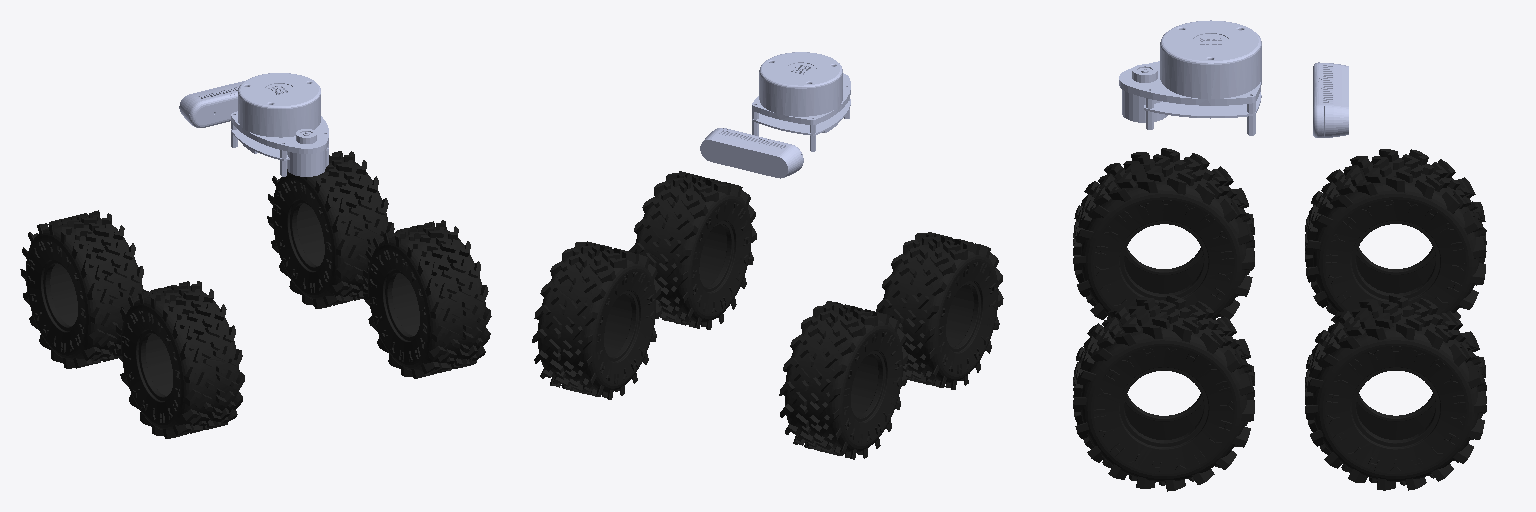
The robot description file, URDF, robot "solidword_URDF":
<?xml version="1.0" encoding="utf-8"?>
<!-- This URDF was automatically created by SolidWorks to URDF Exporter! Originally created by [author] ([email redacted]) 
     Commit Version: 1.5.1-0-g916b5db  Build Version: 1.5.7152.31018
     For more information, please see http://wiki.ros.org/sw_urdf_exporter -->
<robot
  name="solidword_URDF">
  <link
    name="base_link">
    <inertial>
      <origin
        xyz="0.00024063952234829 -0.00103307756433857 -0.00578527197752549"
        rpy="0 0 0" />
      <mass
        value="0.744239560036351" />
      <inertia
        ixx="0.00204640418006704"
        ixy="-4.63019082734219E-08"
        ixz="3.971079145753E-11"
        iyy="0.000945587884509177"
        iyz="5.58860428763674E-06"
        izz="0.00286862371111548" />
    </inertial>
    <visual>
      <origin
        xyz="0 0 0"
        rpy="0 0 0" />
      <geometry>
        <mesh
          filename="package://solidword_URDF/meshes/base_link.STL" />
      </geometry>
      <material
        name="">
        <color
          rgba="0.792156862745098 0.819607843137255 0.933333333333333 1" />
      </material>
    </visual>
    <collision>
      <origin
        xyz="0 0 0"
        rpy="0 0 0" />
      <geometry>
        <mesh
          filename="package://solidword_URDF/meshes/base_link.STL" />
      </geometry>
    </collision>
  </link>
  <link
    name="wheel_left_back_link">
    <inertial>
      <origin
        xyz="-5.91454890619403E-08 -4.15889707117145E-08 0.00430046442972337"
        rpy="0 0 0" />
      <mass
        value="0.0700997256787887" />
      <inertia
        ixx="0.000129991782935584"
        ixy="-7.03359504406401E-11"
        ixz="-7.31347838758624E-11"
        iyy="0.000129991710229871"
        iyz="-6.02868413374053E-11"
        izz="0.00021190371860368" />
    </inertial>
    <visual>
      <origin
        xyz="0 0 0"
        rpy="0 0 0" />
      <geometry>
        <mesh
          filename="package://solidword_URDF/meshes/wheel_left_back_link.STL" />
      </geometry>
      <material
        name="">
        <color
          rgba="0.164705882352941 0.164705882352941 0.164705882352941 1" />
      </material>
    </visual>
    <collision>
      <origin
        xyz="0 0 0"
        rpy="0 0 0" />
      <geometry>
        <mesh
          filename="package://solidword_URDF/meshes/wheel_left_back_link.STL" />
      </geometry>
    </collision>
  </link>
  <joint
    name="wheel_left_back_joint"
    type="continuous">
    <origin
      xyz="-0.11952 -0.079844 -0.034566"
      rpy="3.1416 -1.5708 0" />
    <parent
      link="base_link" />
    <child
      link="wheel_left_back_link" />
    <axis
      xyz="0 0 -1" />
    <limit
      effort="100"
      velocity="100" />
    <dynamics
      damping="0.1"
      friction="0.1" />
  </joint>
  <link
    name="wheel_right_back_link">
    <inertial>
      <origin
        xyz="-2.29356525993651E-08 -6.85695793478658E-08 0.00430046442972555"
        rpy="0 0 0" />
      <mass
        value="0.0700997256787938" />
      <inertia
        ixx="0.000129991824526835"
        ixy="1.39066116599433E-11"
        ixz="-2.31031120103638E-11"
        iyy="0.000129991668638631"
        iyz="-9.19208698297987E-11"
        izz="0.000211903718603691" />
    </inertial>
    <visual>
      <origin
        xyz="0 0 0"
        rpy="0 0 0" />
      <geometry>
        <mesh
          filename="package://solidword_URDF/meshes/wheel_right_back_link.STL" />
      </geometry>
      <material
        name="">
        <color
          rgba="0.164705882352941 0.164705882352941 0.164705882352941 1" />
      </material>
    </visual>
    <collision>
      <origin
        xyz="0 0 0"
        rpy="0 0 0" />
      <geometry>
        <mesh
          filename="package://solidword_URDF/meshes/wheel_right_back_link.STL" />
      </geometry>
    </collision>
  </link>
  <joint
    name="wheel_right_back_joint"
    type="continuous">
    <origin
      xyz="0.11952 -0.079847 -0.034572"
      rpy="0 1.5708 0" />
    <parent
      link="base_link" />
    <child
      link="wheel_right_back_link" />
    <axis
      xyz="0 0 -1" />
    <limit
      effort="100"
      velocity="100" />
    <dynamics
      damping="0.1"
      friction="0.1" />
  </joint>
  <link
    name="wheel_right_front_link">
    <inertial>
      <origin
        xyz="9.38301703001798E-09 -7.16923318488938E-08 0.00430046442972547"
        rpy="0 0 0" />
      <mass
        value="0.0700997256788076" />
      <inertia
        ixx="0.000129991783731368"
        ixy="6.99189367407342E-11"
        ixz="1.94509576281386E-11"
        iyy="0.000129991709434125"
        iyz="-9.27623864397286E-11"
        izz="0.000211903718603716" />
    </inertial>
    <visual>
      <origin
        xyz="0 0 0"
        rpy="0 0 0" />
      <geometry>
        <mesh
          filename="package://solidword_URDF/meshes/wheel_right_front_link.STL" />
      </geometry>
      <material
        name="">
        <color
          rgba="0.164705882352941 0.164705882352941 0.164705882352941 1" />
      </material>
    </visual>
    <collision>
      <origin
        xyz="0 0 0"
        rpy="0 0 0" />
      <geometry>
        <mesh
          filename="package://solidword_URDF/meshes/wheel_right_front_link.STL" />
      </geometry>
    </collision>
  </link>
  <joint
    name="wheel_right_front_joint"
    type="continuous">
    <origin
      xyz="0.11952 0.08009 -0.034456"
      rpy="0 1.5708 0" />
    <parent
      link="base_link" />
    <child
      link="wheel_right_front_link" />
    <axis
      xyz="0 0 -1" />
    <limit
      effort="100"
      velocity="100" />
    <dynamics
      damping="0.1"
      friction="0.1" />
  </joint>
  <link
    name="wheel_left_front_link">
    <inertial>
      <origin
        xyz="-7.21318487162392E-08 -4.98282659577853E-09 0.00430046442972515"
        rpy="0 0 0" />
      <mass
        value="0.0700997256787878" />
      <inertia
        ixx="0.000129991701179285"
        ixy="-6.48629709015669E-11"
        ixz="-9.37779569557824E-11"
        iyy="0.000129991791986169"
        iyz="-1.37439105206626E-11"
        izz="0.000211903718603679" />
    </inertial>
    <visual>
      <origin
        xyz="0 0 0"
        rpy="0 0 0" />
      <geometry>
        <mesh
          filename="package://solidword_URDF/meshes/wheel_left_front_link.STL" />
      </geometry>
      <material
        name="">
        <color
          rgba="0.164705882352941 0.164705882352941 0.164705882352941 1" />
      </material>
    </visual>
    <collision>
      <origin
        xyz="0 0 0"
        rpy="0 0 0" />
      <geometry>
        <mesh
          filename="package://solidword_URDF/meshes/wheel_left_front_link.STL" />
      </geometry>
    </collision>
  </link>
  <joint
    name="wheel_left_front_joint"
    type="continuous">
    <origin
      xyz="-0.11952 0.08006 -0.034433"
      rpy="3.1416 -1.5708 0" />
    <parent
      link="base_link" />
    <child
      link="wheel_left_front_link" />
    <axis
      xyz="0 0 -1" />
    <limit
      effort="100"
      velocity="100" />
    <dynamics
      damping="0.1"
      friction="0.1" />
  </joint>
  <link
    name="IMU_link">
    <inertial>
      <origin
        xyz="0.000964917991547937 -0.0110180842184313 0.026980176080268"
        rpy="0 0 0" />
      <mass
        value="0.430920908604431" />
      <inertia
        ixx="0.0011992591202161"
        ixy="1.60316136417021E-06"
        ixz="-9.29983991761058E-11"
        iyy="0.000852483263634002"
        iyz="7.59053430643875E-06"
        izz="0.00198851002306301" />
    </inertial>
    <visual>
      <origin
        xyz="0 0 0"
        rpy="0 0 0" />
      <geometry>
        <mesh
          filename="package://solidword_URDF/meshes/IMU_link.STL" />
      </geometry>
      <material
        name="">
        <color
          rgba="0.192156862745098 0.203921568627451 0.203921568627451 1" />
      </material>
    </visual>
    <collision>
      <origin
        xyz="0 0 0"
        rpy="0 0 0" />
      <geometry>
        <mesh
          filename="package://solidword_URDF/meshes/IMU_link.STL" />
      </geometry>
    </collision>
  </link>
  <joint
    name="IMU_joint"
    type="fixed">
    <origin
      xyz="0 -0.019933 0.053"
      rpy="0 0 0" />
    <parent
      link="base_link" />
    <child
      link="IMU_link" />
    <axis
      xyz="0 0 0" />
  </joint>
  <link
    name="camera_link">
    <inertial>
      <origin
        xyz="0.00164596378995197 -0.00425281091819607 -0.00183688933695247"
        rpy="0 0 0" />
      <mass
        value="0.0447522021928565" />
      <inertia
        ixx="3.9447182614137E-06"
        ixy="-2.44340810058845E-07"
        ixz="2.80195213090034E-09"
        iyy="2.72775297758811E-05"
        iyz="-1.17404668598162E-09"
        izz="2.73620934349504E-05" />
    </inertial>
    <visual>
      <origin
        xyz="0 0 0"
        rpy="0 0 0" />
      <geometry>
        <mesh
          filename="package://solidword_URDF/meshes/camera_link.STL" />
      </geometry>
      <material
        name="">
        <color
          rgba="0.792156862745098 0.819607843137255 0.933333333333333 1" />
      </material>
    </visual>
    <collision>
      <origin
        xyz="0 0 0"
        rpy="0 0 0" />
      <geometry>
        <mesh
          filename="package://solidword_URDF/meshes/camera_link.STL" />
      </geometry>
    </collision>
  </link>
  <joint
    name="camera_joint"
    type="continuous">
    <origin
      xyz="-0.0018924 0.039009 0.13228"
      rpy="0 0 0" />
    <parent
      link="base_link" />
    <child
      link="camera_link" />
    <axis
      xyz="0 0 1" />
  </joint>
  <link
    name="lidar_link">
    <inertial>
      <origin
        xyz="-0.000233861851954953 -0.00680230699223916 -0.0219318722670329"
        rpy="0 0 0" />
      <mass
        value="0.170611427740059" />
      <inertia
        ixx="0.000123165861310998"
        ixy="-1.76438806180223E-07"
        ixz="-5.2415349396794E-07"
        iyy="7.88360971590411E-05"
        iyz="-2.02846680669131E-05"
        izz="0.00014078871798285" />
    </inertial>
    <visual>
      <origin
        xyz="0 0 0"
        rpy="0 0 0" />
      <geometry>
        <mesh
          filename="package://solidword_URDF/meshes/lidar_link.STL" />
      </geometry>
      <material
        name="">
        <color
          rgba="0.792156862745098 0.819607843137255 0.933333333333333 1" />
      </material>
    </visual>
    <collision>
      <origin
        xyz="0 0 0"
        rpy="0 0 0" />
      <geometry>
        <mesh
          filename="package://solidword_URDF/meshes/lidar_link.STL" />
      </geometry>
    </collision>
  </link>
  <joint
    name="lidar_joint"
    type="fixed">
    <origin
      xyz="-0.00010226 -0.047402 0.1752"
      rpy="0 0 0" />
    <parent
      link="base_link" />
    <child
      link="lidar_link" />
    <axis
      xyz="0 0 0" />
  </joint>
</robot>

--- Render facts (derived) ---
Views: 3 orthographic renders of the robot side by side, from view 1: azimuth 30°, elevation 25°; view 2: azimuth 150°, elevation 25°; view 3: azimuth 270°, elevation 25°.
Robot: solidword_URDF — 8 links, 7 joints (5 continuous, 2 fixed); root link base_link; default pose: every joint at zero.
Visible links, largest first — view 1: wheel_right_back_link, wheel_left_back_link, wheel_left_front_link, wheel_right_front_link, lidar_link, camera_link; view 2: wheel_right_front_link, wheel_left_front_link, wheel_left_back_link, wheel_right_back_link, lidar_link, camera_link; view 3: wheel_right_front_link, wheel_right_back_link, wheel_left_back_link, wheel_left_front_link, lidar_link, camera_link.
Boxes of the visible links, x1,y1,x2,y2 form: wheel_right_back_link: [363, 220, 491, 378]; wheel_left_back_link: [116, 281, 244, 438]; wheel_left_front_link: [20, 210, 145, 368]; wheel_right_front_link: [267, 151, 394, 308]; lidar_link: [231, 73, 328, 176]; camera_link: [179, 81, 243, 127]; wheel_right_front_link: [532, 241, 660, 399]; wheel_left_front_link: [779, 301, 907, 459]; wheel_left_back_link: [876, 232, 1003, 389]; wheel_right_back_link: [629, 171, 756, 329]; lidar_link: [752, 52, 850, 151]; camera_link: [700, 128, 803, 178]; wheel_right_front_link: [1305, 295, 1486, 490]; wheel_right_back_link: [1073, 295, 1254, 491]; wheel_left_back_link: [1073, 148, 1254, 319]; wheel_left_front_link: [1305, 149, 1486, 322]; lidar_link: [1119, 20, 1261, 135]; camera_link: [1313, 62, 1348, 137].
Size in the robot's own frame: 0.2969 by 0.2849 by 0.2728 metres.
6 mesh visuals loaded from 8 distinct referenced files (6 binary STL); not drawn: 2 (reference not matched to a file when rendering).